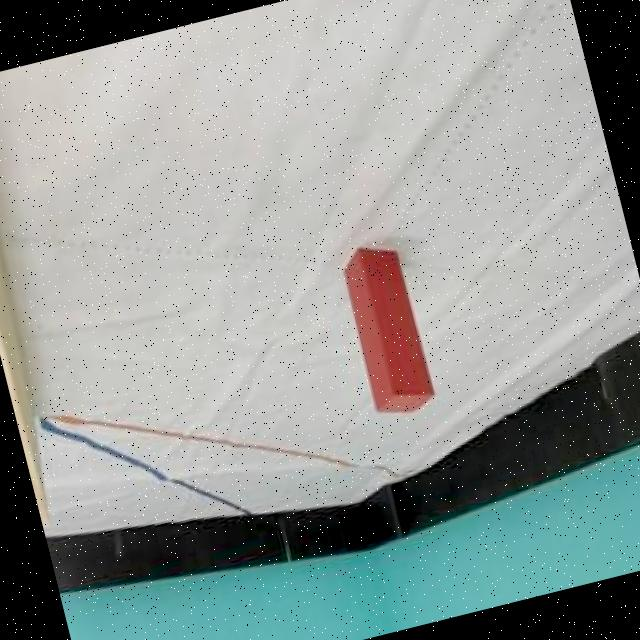redbox: (334, 236, 439, 421)
